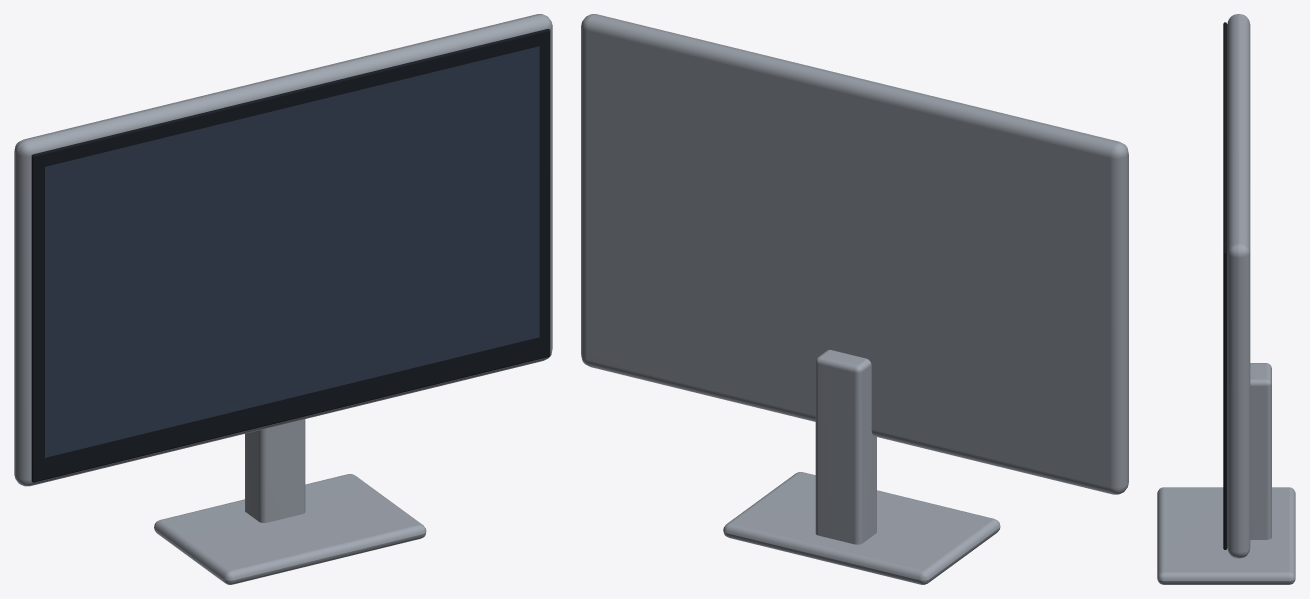
The model's file is monitor.glb.
3 renders of one model, left to right at view 1: azimuth 30°, elevation 25°; view 2: azimuth 150°, elevation 25°; view 3: azimuth 270°, elevation 25°, orthographic. The views are drawn at different scales.
Visible parts, largest first — view 1: Screen, Monitor bezel, Monitor shell, Monitor foot, Monitor support; view 2: Monitor shell, Monitor foot, Monitor support; view 3: Monitor shell, Monitor foot, Monitor support, Monitor bezel.
Part boxes in pixels (x1,y1,x2,y2): Screen: [45, 46, 539, 457]; Monitor bezel: [31, 28, 550, 482]; Monitor shell: [14, 14, 552, 486]; Monitor foot: [154, 474, 426, 584]; Monitor support: [245, 419, 305, 522]; Monitor shell: [581, 14, 1128, 494]; Monitor foot: [723, 472, 1000, 584]; Monitor support: [815, 350, 876, 544]; Monitor shell: [1227, 14, 1250, 558]; Monitor foot: [1157, 487, 1295, 584]; Monitor support: [1250, 363, 1271, 539]; Monitor bezel: [1223, 22, 1227, 549].
Size of the model in its own units: 3.65 by 2.96 by 0.9.
